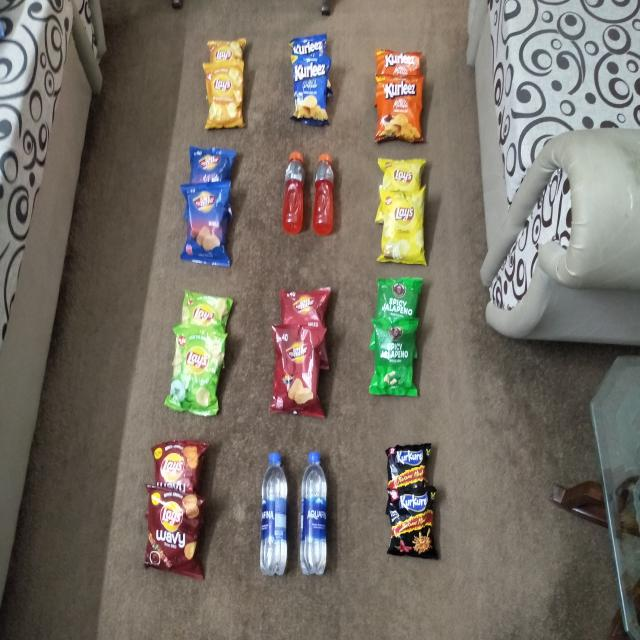Plastic: (164, 327, 226, 417), (144, 490, 206, 580), (272, 322, 328, 419), (368, 315, 422, 399), (182, 182, 232, 268), (377, 189, 430, 266), (298, 446, 329, 576), (388, 485, 438, 558), (260, 452, 289, 576), (375, 76, 426, 144), (289, 53, 332, 127), (202, 62, 245, 132), (150, 439, 208, 489), (281, 148, 306, 234), (376, 274, 426, 317), (278, 285, 334, 323), (384, 442, 434, 484), (180, 290, 234, 328), (312, 152, 334, 234), (188, 144, 235, 182), (378, 157, 428, 189), (376, 46, 422, 76), (206, 37, 247, 63), (289, 33, 327, 56)
